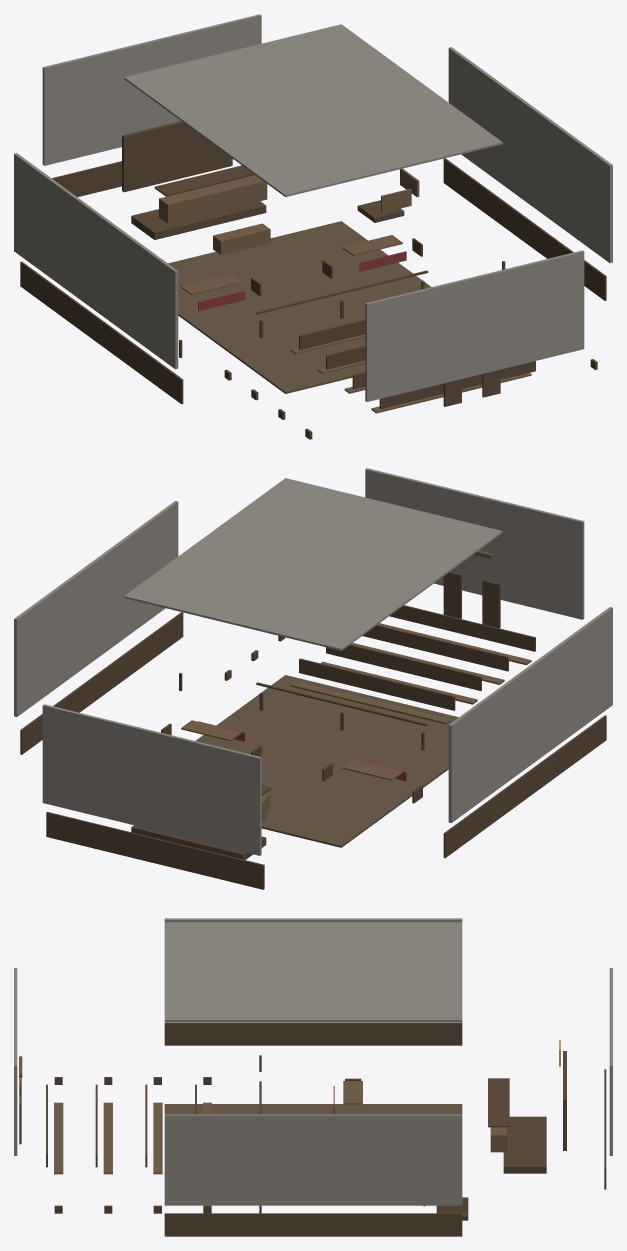
The model's file is courtroom.glb.
3 views of the same model, one above another, from view 1: azimuth 30°, elevation 25°; view 2: azimuth 150°, elevation 25°; view 3: azimuth 270°, elevation 25° (orthographic). The views are drawn at different scales.
Parts seen in each view (by area): view 1: ceiling, wall_front, floor, wall_left, wall_right, wall_back, bench_back, dado_left, dado_right, bench_desk, dais, dado_back (+9 smaller); view 2: ceiling, floor, wall_back, wall_left, wall_right, wall_front, dado_back, dado_left, dado_right, pew_back_0, pew_back_1, pew_back_2 (+8 smaller); view 3: ceiling, wall_right, dado_left, dado_right, floor, dais, wall_left, bench_top, wall_back, wall_front, pew_seat_1, pew_seat_2 (+3 smaller).
Boxes of the visible parts, bbox=[...] form: ceiling: bbox=[124, 24, 502, 196]; wall_front: bbox=[365, 250, 584, 401]; floor: bbox=[168, 221, 431, 393]; wall_left: bbox=[14, 153, 178, 369]; wall_right: bbox=[448, 47, 612, 262]; wall_back: bbox=[42, 14, 261, 165]; bench_back: bbox=[122, 121, 232, 192]; dado_left: bbox=[20, 261, 183, 404]; dado_right: bbox=[443, 158, 606, 300]; bench_desk: bbox=[159, 175, 267, 223]; dais: bbox=[131, 201, 266, 239]; dado_back: bbox=[52, 161, 121, 197]; ceiling: bbox=[124, 478, 502, 650]; floor: bbox=[195, 675, 458, 847]; wall_back: bbox=[42, 704, 261, 855]; wall_left: bbox=[448, 607, 612, 822]; wall_right: bbox=[14, 501, 178, 716]; wall_front: bbox=[365, 468, 584, 619]; dado_back: bbox=[46, 812, 264, 889]; dado_left: bbox=[443, 715, 606, 857]; dado_right: bbox=[20, 612, 183, 754]; pew_back_0: bbox=[299, 658, 455, 710]; pew_back_1: bbox=[326, 644, 481, 690]; pew_back_2: bbox=[362, 625, 508, 671]; ceiling: bbox=[164, 922, 462, 1021]; wall_right: bbox=[164, 1114, 462, 1205]; dado_left: bbox=[164, 1022, 462, 1045]; dado_right: bbox=[164, 1213, 462, 1236]; floor: bbox=[164, 1104, 462, 1114]; dais: bbox=[503, 1116, 546, 1173]; wall_left: bbox=[164, 918, 462, 922]; bench_top: bbox=[488, 1078, 509, 1127]; wall_back: bbox=[609, 968, 612, 1155]; wall_front: bbox=[14, 968, 17, 1155]; pew_seat_1: bbox=[153, 1102, 162, 1174]; pew_seat_2: bbox=[103, 1102, 112, 1174].
Size of the model in its own units: 14.1 by 6.12 by 18.1.
